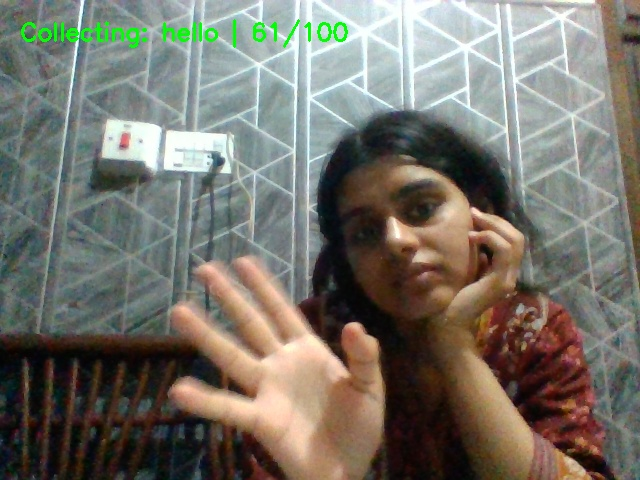hello: (159, 241, 397, 474)
